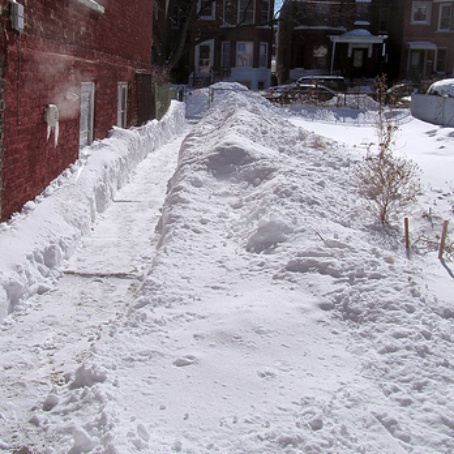building: (1, 1, 155, 215), (280, 1, 401, 94), (162, 1, 277, 88), (395, 1, 454, 90)
